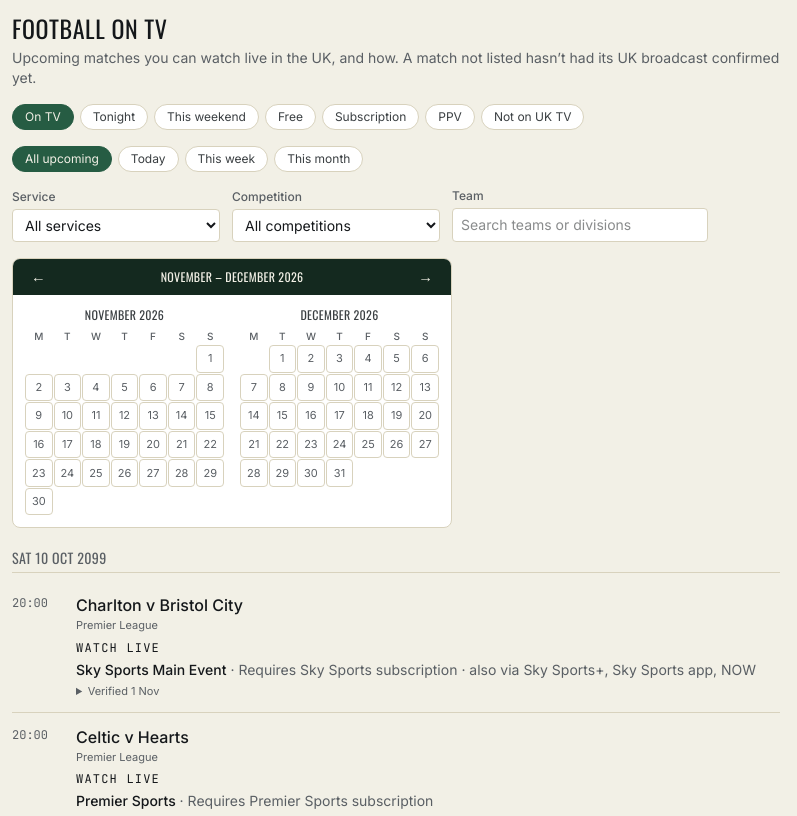
Scenario: TvGuidePage -- UK Watch Guide › service filter finds a match through any of its routes (e.g. NOW inside a Sky offer)
The width and height of the screenshot is (797, 816).
expect the link "Charlton v Bristol City" is shown: met, box x1=76 y1=596 x2=243 y2=616
Select "NOW" in the dropdown labelled "Service": (116, 226) x1=12 y1=209 x2=220 y2=242
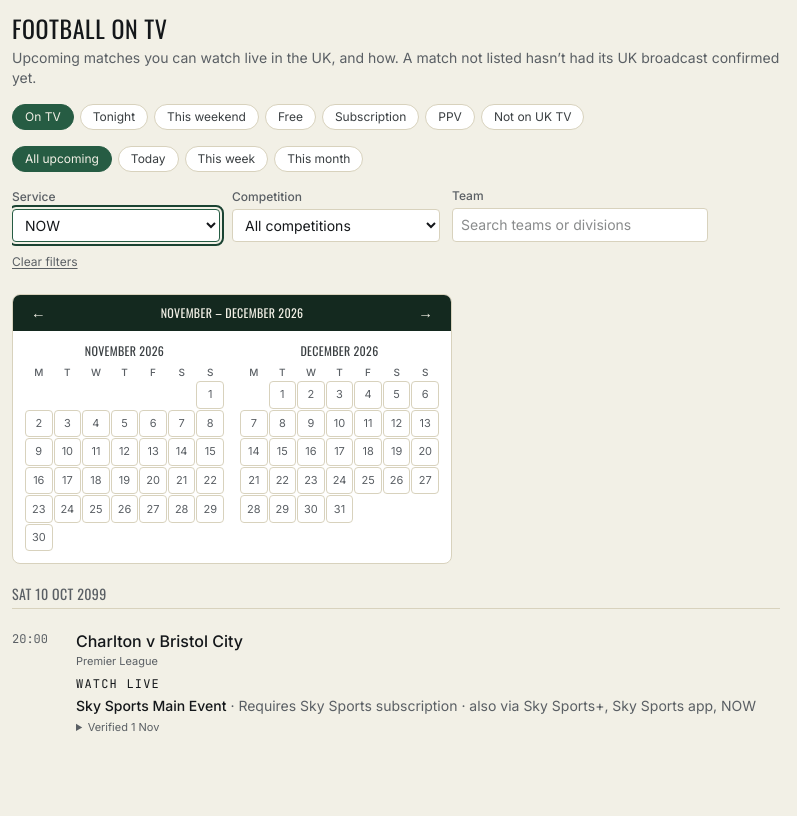
expect the link "Charlton v Bristol City" is shown: met, box x1=76 y1=632 x2=243 y2=652
expect the link "Celtic v Hearts" is gone: met
Select "Premier Sports" in the dropdown labelled "Service": (116, 226) x1=12 y1=209 x2=220 y2=242
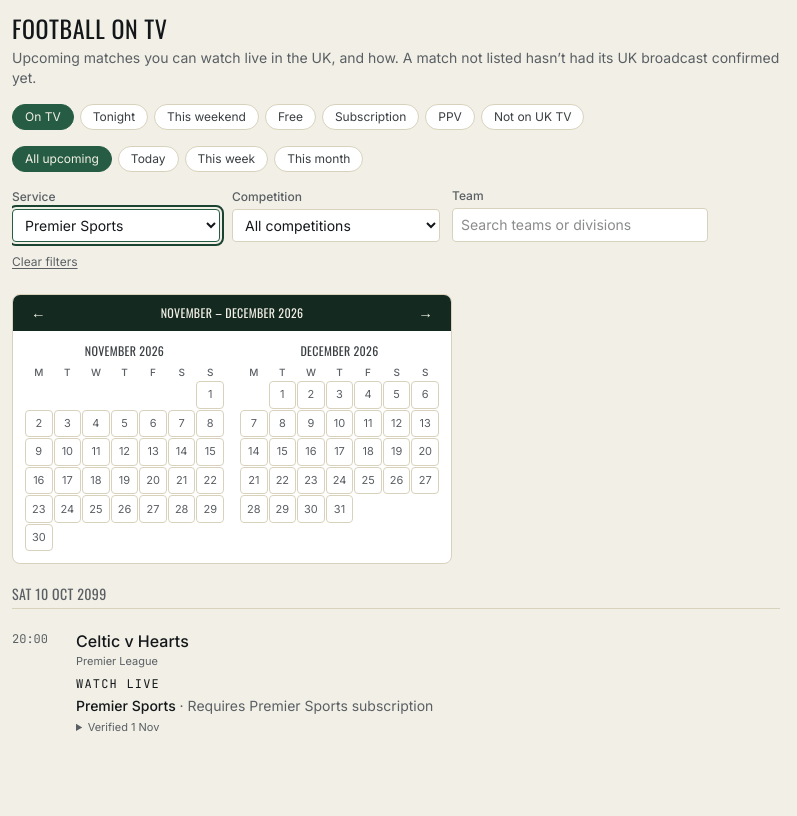
expect the link "Celtic v Hearts" is shown: met, box x1=76 y1=632 x2=189 y2=652
